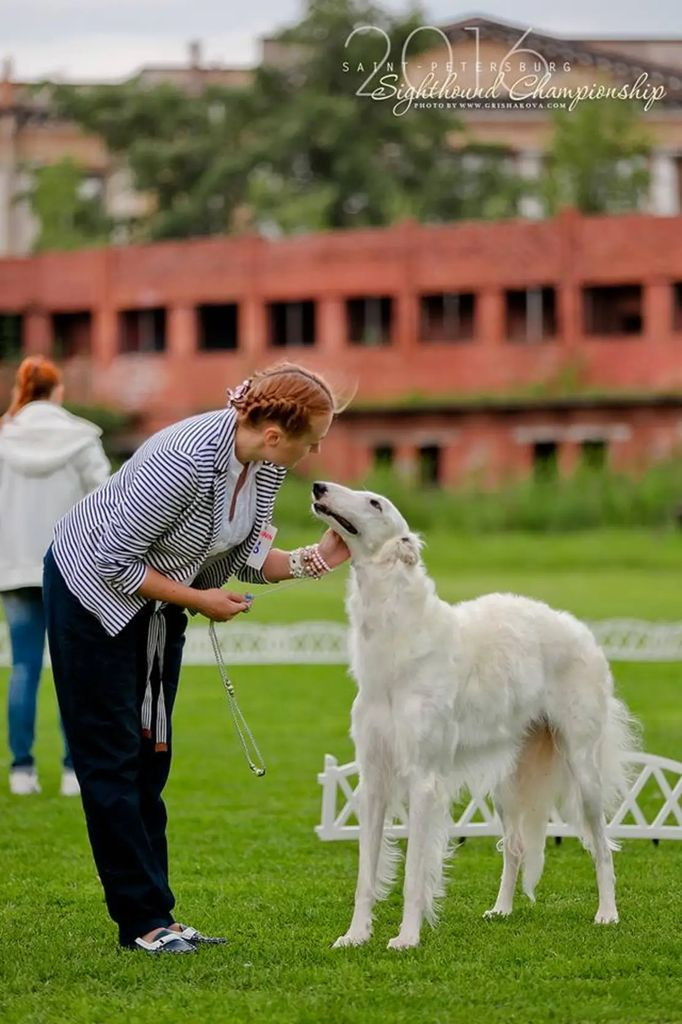borzoi: (309, 475, 641, 966)
